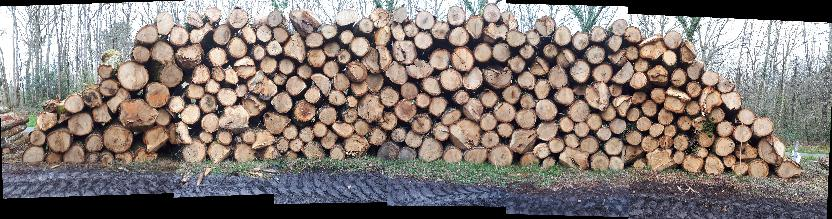object: (448, 120, 480, 149), (245, 73, 278, 101), (756, 132, 784, 162), (362, 46, 392, 74), (140, 125, 172, 151), (118, 100, 154, 123), (115, 61, 148, 86), (288, 7, 320, 32), (584, 82, 609, 113), (103, 125, 134, 150), (280, 33, 307, 61), (218, 106, 248, 131), (242, 127, 276, 148), (644, 148, 676, 170), (638, 31, 664, 58), (174, 44, 200, 71), (355, 93, 383, 118), (484, 65, 514, 88), (143, 82, 171, 106), (448, 46, 474, 71), (262, 110, 290, 133), (508, 131, 538, 151), (46, 129, 72, 152), (482, 22, 510, 42), (68, 112, 92, 135), (161, 63, 183, 88), (698, 89, 720, 114), (180, 139, 206, 160), (406, 59, 433, 79), (772, 159, 802, 177), (418, 137, 442, 159), (559, 148, 588, 166), (460, 97, 484, 118), (390, 98, 414, 119), (390, 40, 414, 61), (488, 144, 514, 163), (536, 119, 559, 140), (701, 155, 725, 175), (188, 23, 212, 43), (235, 57, 256, 79), (547, 66, 569, 87), (440, 70, 462, 91), (612, 95, 634, 116), (179, 102, 201, 123), (440, 106, 462, 127), (234, 142, 256, 163), (570, 59, 590, 82), (566, 100, 590, 119), (33, 111, 57, 130), (343, 134, 367, 153), (156, 10, 174, 35), (719, 90, 745, 107), (749, 117, 775, 134), (384, 60, 404, 82), (647, 64, 669, 84), (312, 74, 332, 96), (503, 27, 525, 47), (374, 142, 398, 160), (460, 144, 484, 162), (678, 41, 696, 65), (378, 83, 398, 104), (61, 93, 81, 114), (240, 93, 260, 114), (294, 101, 314, 122), (430, 47, 450, 68), (330, 121, 354, 138), (736, 120, 743, 178), (684, 60, 704, 80), (614, 62, 634, 82), (462, 67, 482, 87), (172, 122, 192, 142), (226, 37, 246, 57), (300, 142, 322, 160), (134, 26, 156, 44), (150, 42, 172, 60), (556, 49, 574, 71), (410, 114, 434, 130), (592, 62, 612, 81), (270, 92, 290, 111), (536, 100, 556, 119), (515, 109, 535, 128), (228, 8, 247, 28), (535, 16, 554, 36), (530, 53, 548, 74), (533, 78, 551, 99), (666, 90, 684, 111), (494, 102, 516, 119), (62, 145, 84, 162), (364, 72, 384, 90), (554, 86, 574, 104), (367, 124, 385, 144), (749, 159, 769, 177), (371, 7, 389, 27), (432, 21, 452, 39), (570, 31, 590, 49), (582, 46, 606, 61), (422, 75, 439, 96), (475, 41, 491, 63), (604, 51, 626, 67), (603, 135, 621, 154), (591, 155, 609, 174), (506, 54, 526, 71), (190, 63, 210, 80), (626, 72, 646, 89), (214, 88, 234, 105), (316, 106, 336, 123), (376, 112, 396, 129), (415, 11, 435, 28), (663, 29, 683, 46), (385, 24, 409, 38), (167, 27, 189, 42), (346, 62, 364, 80), (101, 79, 119, 97), (482, 3, 500, 21), (715, 138, 733, 156), (208, 141, 226, 159), (624, 143, 642, 161), (736, 143, 754, 161), (684, 154, 702, 172), (624, 24, 642, 42), (212, 25, 230, 43), (449, 26, 467, 44), (350, 36, 368, 54), (208, 46, 226, 64), (131, 45, 150, 62), (286, 77, 306, 93), (606, 116, 626, 132), (554, 25, 570, 45), (22, 147, 43, 162), (134, 150, 158, 163), (334, 9, 356, 23), (502, 86, 520, 103), (281, 123, 299, 140), (695, 129, 713, 146), (447, 7, 465, 24), (499, 10, 517, 27), (491, 41, 508, 59), (660, 50, 678, 67), (670, 68, 686, 87), (374, 27, 390, 46), (308, 47, 324, 66), (196, 94, 216, 109), (480, 132, 500, 147), (669, 134, 689, 149), (518, 153, 538, 168), (468, 17, 483, 37), (517, 71, 533, 89), (201, 112, 217, 130), (320, 129, 336, 147), (581, 135, 599, 151), (186, 10, 204, 26), (588, 25, 606, 41), (347, 79, 369, 92), (326, 91, 346, 105), (260, 146, 280, 160), (270, 27, 290, 41), (411, 33, 432, 46), (686, 81, 702, 98), (429, 97, 445, 114), (690, 113, 706, 130), (390, 124, 406, 141), (92, 105, 110, 120), (655, 107, 673, 122), (707, 107, 725, 122), (83, 135, 101, 150), (442, 148, 460, 163), (356, 17, 374, 32), (323, 41, 341, 56), (736, 122, 750, 141), (82, 88, 98, 104), (559, 115, 575, 131), (532, 141, 548, 157), (258, 58, 276, 72), (700, 71, 718, 85), (334, 73, 348, 91), (350, 119, 368, 133), (714, 120, 732, 134), (646, 122, 664, 136), (28, 129, 46, 143), (201, 8, 222, 20), (562, 133, 580, 147), (547, 138, 565, 152), (319, 23, 337, 37), (240, 26, 254, 44), (202, 78, 218, 93), (186, 84, 202, 99), (520, 93, 536, 108), (686, 100, 702, 115), (738, 109, 754, 124), (675, 117, 691, 132), (622, 130, 642, 142), (396, 147, 416, 159), (608, 36, 624, 51), (279, 56, 293, 73), (480, 89, 494, 106), (154, 106, 168, 123), (300, 125, 314, 142), (405, 130, 419, 147), (496, 124, 514, 137), (326, 146, 344, 159), (98, 61, 112, 77), (296, 65, 312, 79), (574, 83, 590, 97), (402, 83, 416, 99), (649, 88, 665, 102), (610, 20, 626, 34), (525, 30, 541, 44), (306, 33, 322, 47), (624, 45, 640, 59), (115, 151, 133, 163), (634, 56, 648, 71), (324, 61, 338, 76), (719, 77, 733, 92), (312, 121, 326, 136), (641, 135, 656, 149), (723, 154, 737, 169), (267, 9, 281, 24), (340, 108, 356, 121), (215, 130, 231, 143), (518, 44, 534, 57), (416, 92, 428, 109), (434, 122, 446, 139), (634, 118, 652, 129), (224, 69, 238, 83), (271, 72, 285, 86), (305, 88, 319, 102), (454, 90, 468, 104), (168, 96, 182, 110), (274, 136, 288, 150), (610, 155, 624, 169), (589, 113, 601, 129), (266, 42, 282, 54), (211, 68, 225, 81), (610, 82, 624, 95), (642, 100, 656, 113), (602, 105, 616, 118), (393, 6, 407, 19), (658, 135, 672, 148), (664, 123, 676, 138), (258, 25, 270, 40), (252, 42, 264, 57), (196, 130, 212, 141), (482, 113, 494, 127), (576, 121, 588, 135), (734, 161, 746, 175), (544, 44, 558, 56), (598, 127, 610, 140), (672, 151, 684, 164), (405, 21, 417, 34), (339, 29, 351, 42), (290, 138, 302, 150), (696, 145, 708, 157), (336, 50, 348, 62), (48, 153, 61, 164), (632, 93, 646, 103), (345, 92, 357, 103), (627, 108, 639, 119), (99, 153, 113, 162), (633, 158, 645, 168), (284, 152, 298, 160), (542, 158, 554, 167), (85, 153, 95, 162)
pile: (22, 4, 804, 177)
